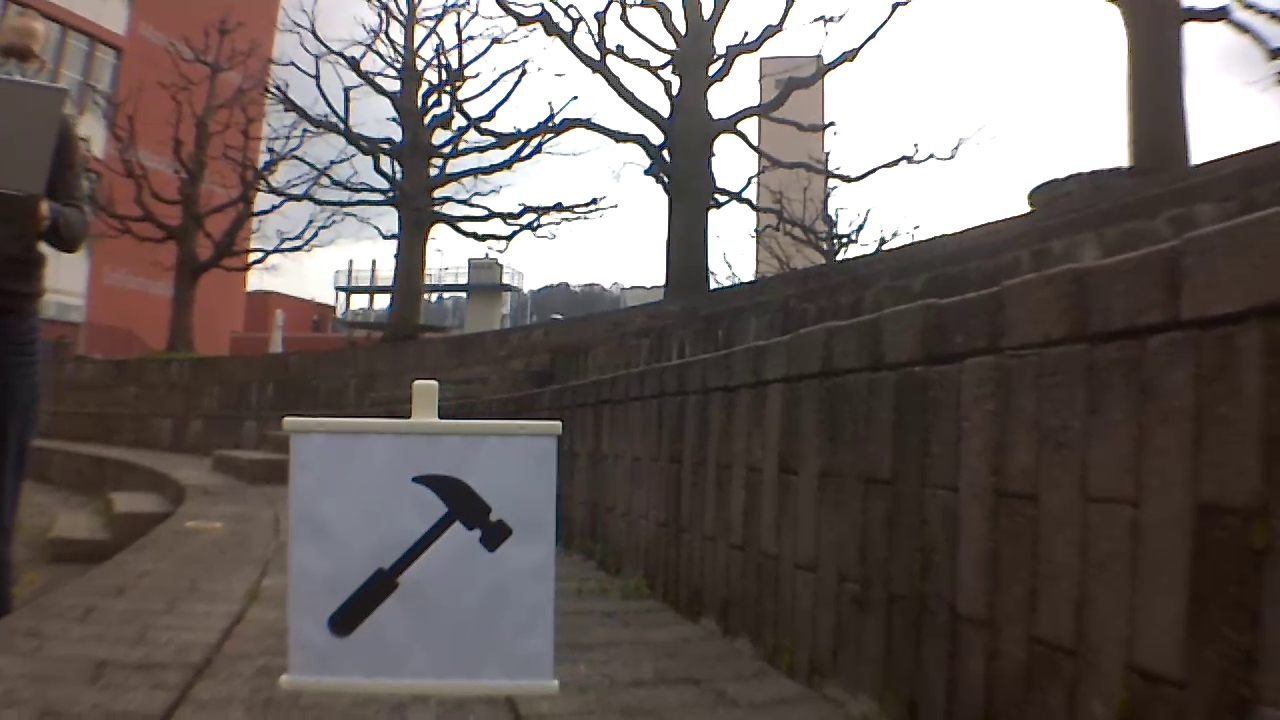hammer: (328, 469, 517, 637)
